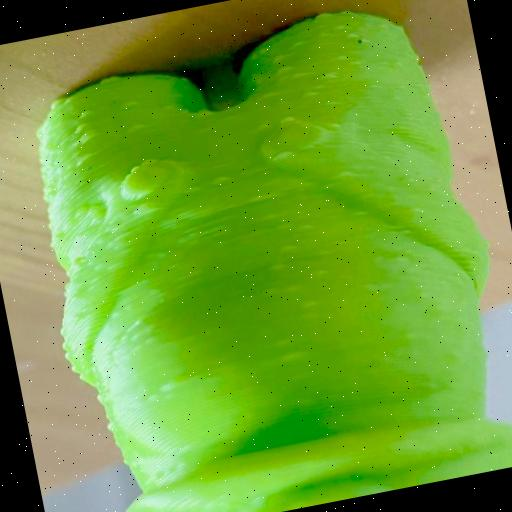blobs: (269, 146, 301, 166), (296, 294, 322, 314), (190, 105, 218, 123), (209, 170, 234, 188), (266, 258, 288, 276), (78, 127, 100, 144), (308, 264, 330, 280), (278, 112, 298, 129), (298, 219, 319, 235), (319, 66, 340, 82), (126, 119, 146, 135), (280, 242, 300, 256), (138, 154, 160, 166), (290, 68, 312, 80), (342, 28, 362, 41), (302, 86, 320, 100), (260, 210, 278, 223), (352, 208, 370, 220), (335, 168, 353, 180), (120, 98, 138, 110), (288, 38, 306, 50), (329, 20, 347, 32), (322, 119, 340, 131), (74, 121, 90, 134), (262, 89, 279, 101), (254, 120, 270, 132), (274, 62, 290, 74), (78, 108, 92, 120), (272, 52, 286, 62)
